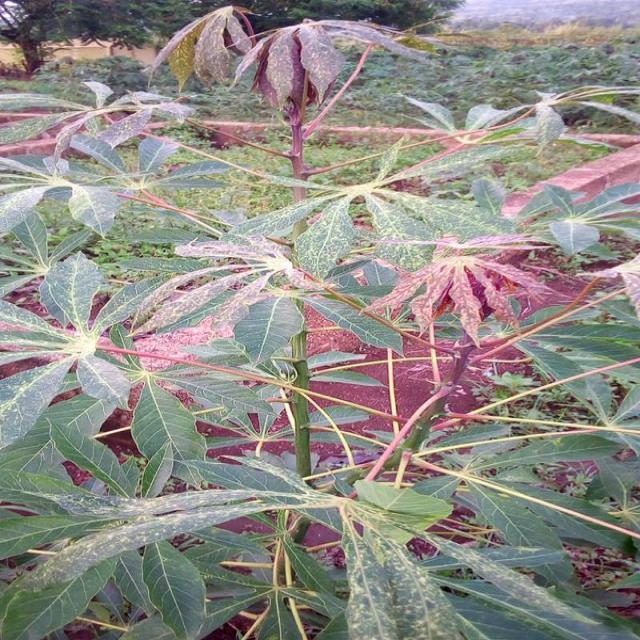cassava leaf: (1, 12, 638, 638), (231, 20, 345, 113)
